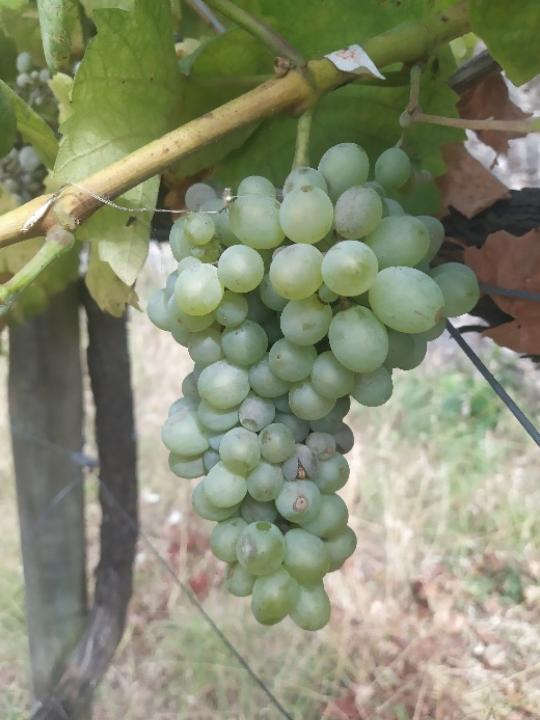grape: (141, 135, 483, 635)
